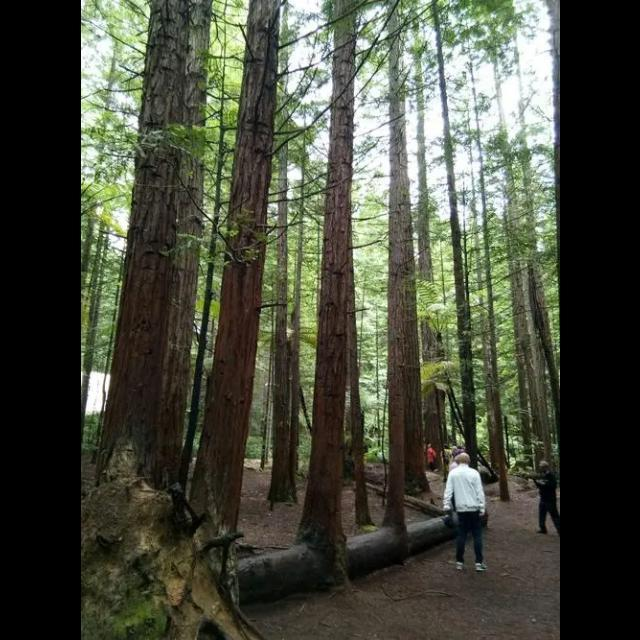fallen_tree: (120, 498, 490, 632), (350, 478, 444, 522)
